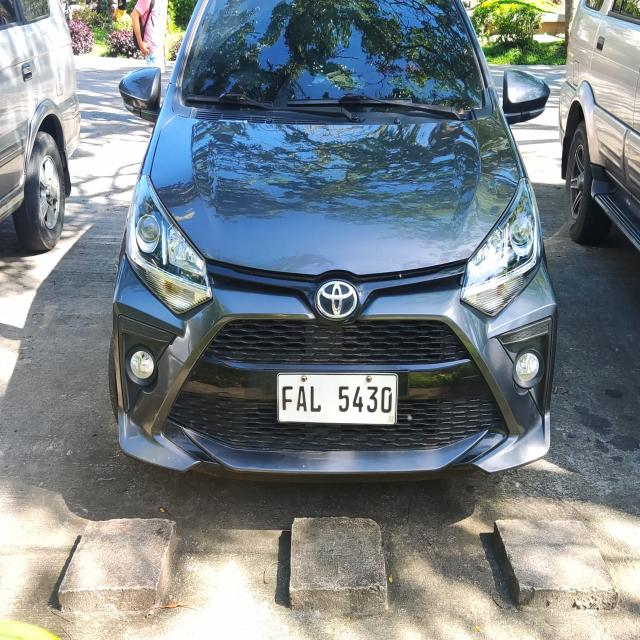plate: (275, 370, 400, 428)
